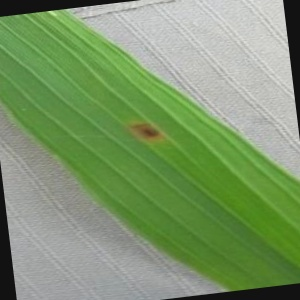Bacterial_Leaf_Blight: (124, 116, 168, 145)
